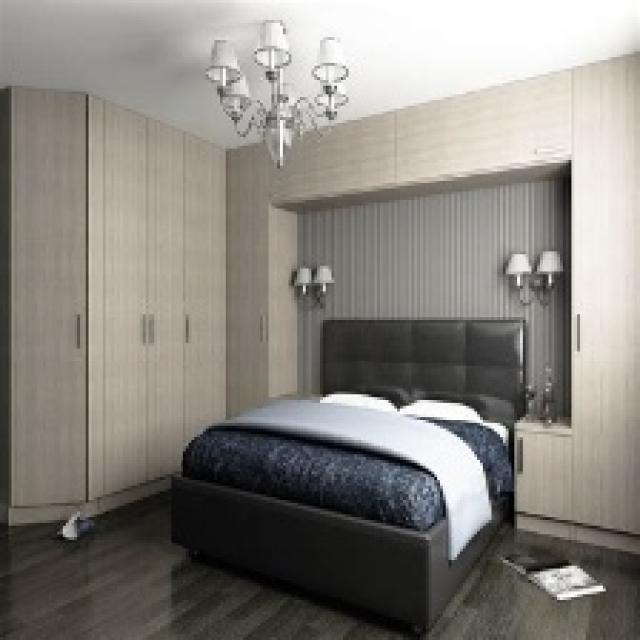Bed: (168, 314, 526, 637)
